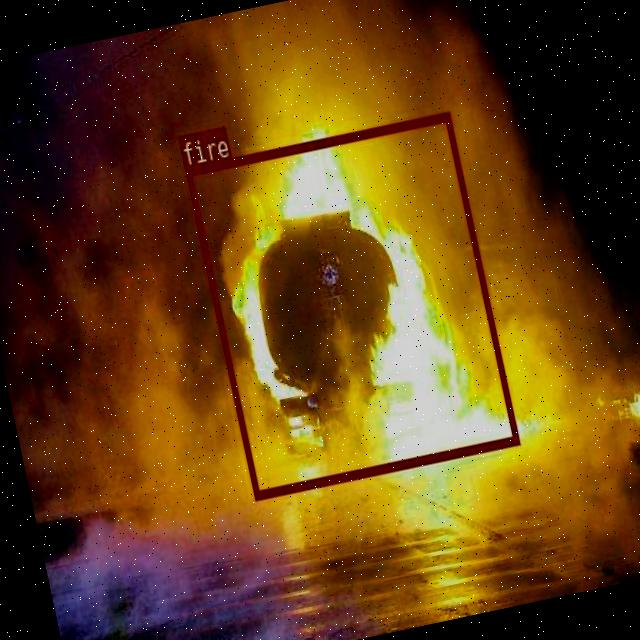fire: (183, 110, 518, 499)
